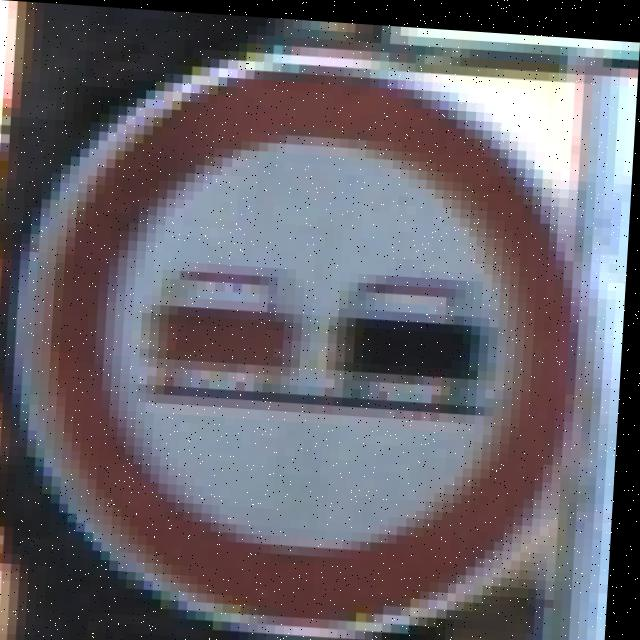no_overtaking: (38, 62, 578, 633)
